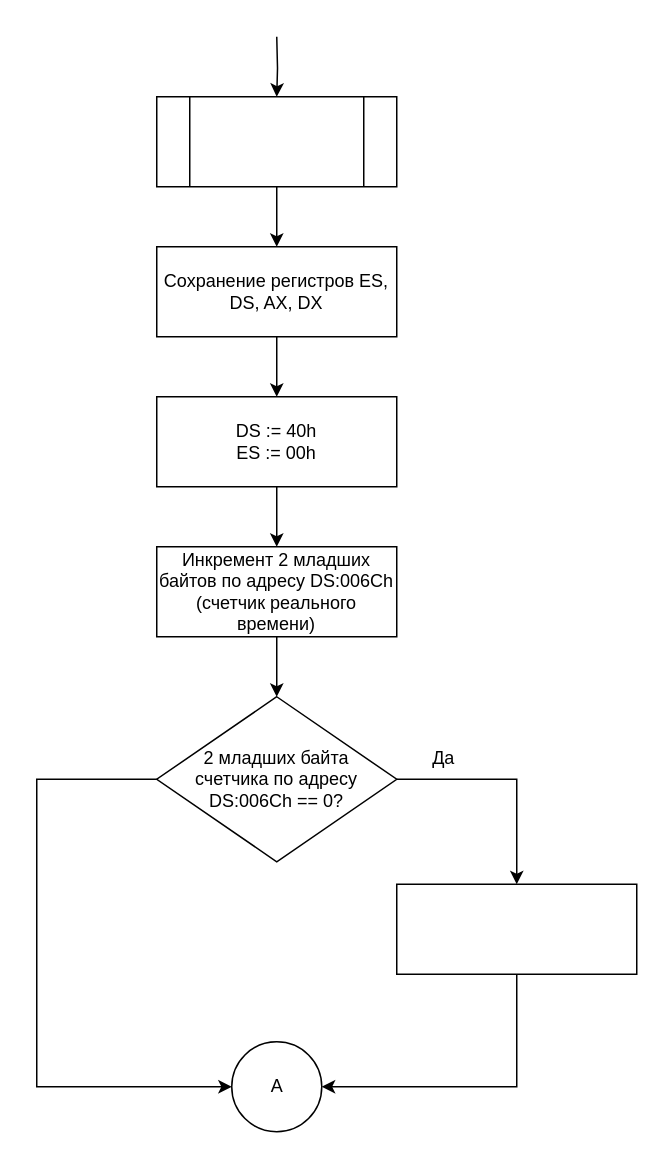
This 663x1158 diagram has some shape labels left out. Here are the shapes that lost their labels. From the top down, the centre of each, then its label:
the point at 276,141: Вызов процедуры SUB_6
the point at 516,928: Инкремент 2 старших байтов счетчика по адресу DS:006Ch
